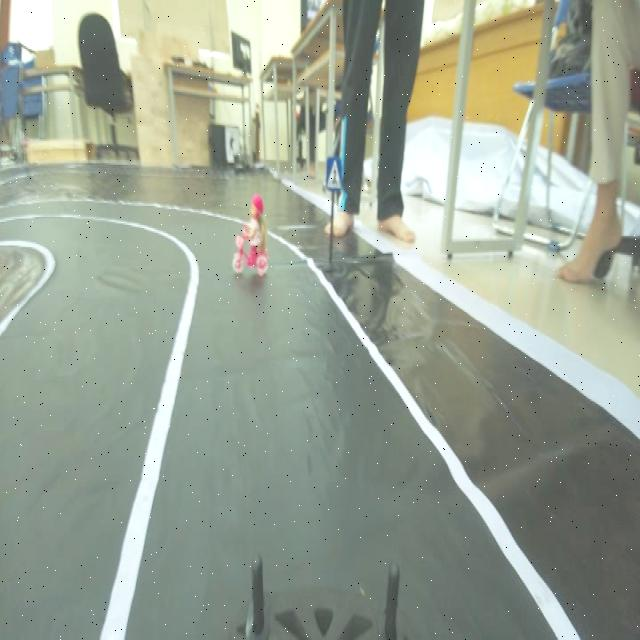crosswalk: (320, 153, 347, 200)
pedestrian: (218, 194, 276, 281)
